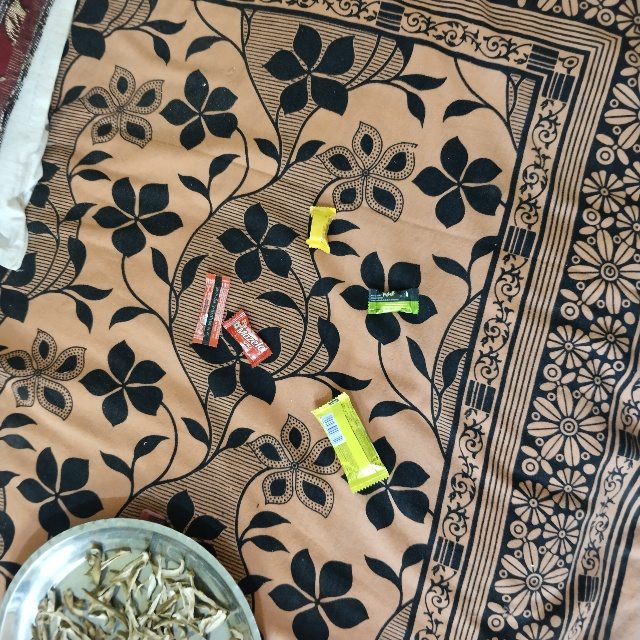Alpenlibe Creamfills: (305, 205, 333, 256)
Mazelo: (221, 327, 250, 380)
Nescafe Coffee: (207, 272, 232, 346)
Orbit: (309, 409, 354, 512)
Pulse: (367, 288, 424, 317)
